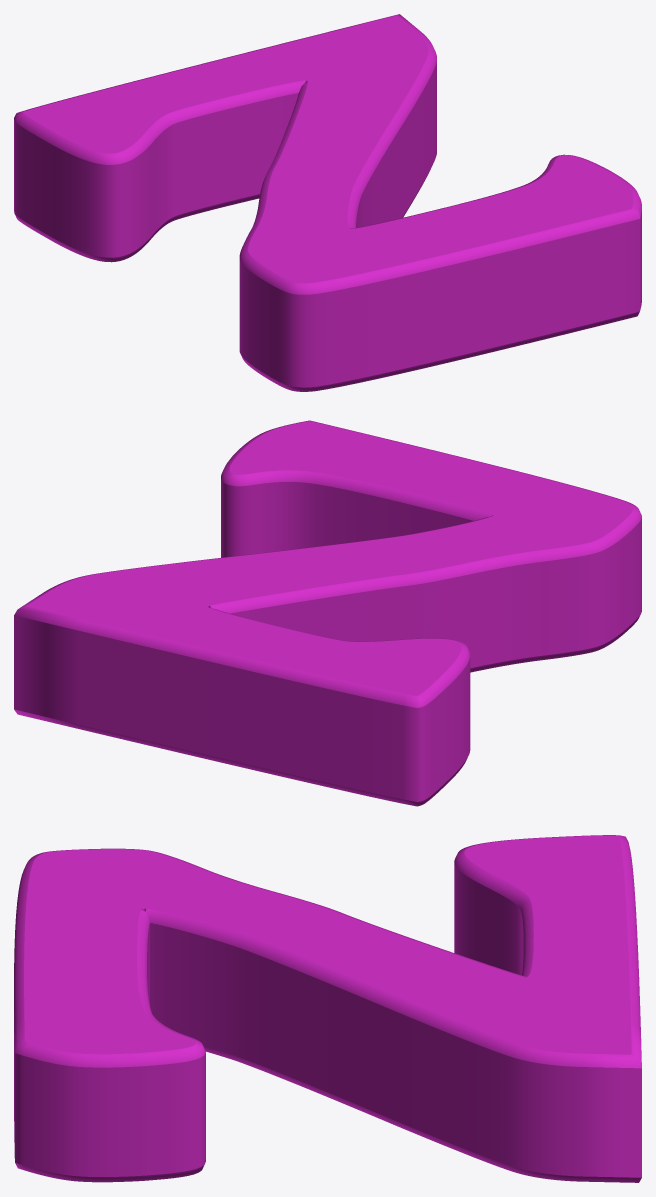
The model's file is Bubble_LetterZ.fbx.
3 views of the same model, one above another, from view 1: azimuth 30°, elevation 25°; view 2: azimuth 150°, elevation 25°; view 3: azimuth 270°, elevation 25° (orthographic). The views are drawn at different scales.
Parts seen in each view (by area): view 1: BubbleLetter_Z; view 2: BubbleLetter_Z; view 3: BubbleLetter_Z.
Boxes of the visible parts, <box> form: BubbleLetter_Z: <box>14,14,641,391</box>; BubbleLetter_Z: <box>14,420,641,806</box>; BubbleLetter_Z: <box>14,835,641,1182</box>.
Bounding box in the file's own units: 0.5362 × 0.14 × 0.624.
